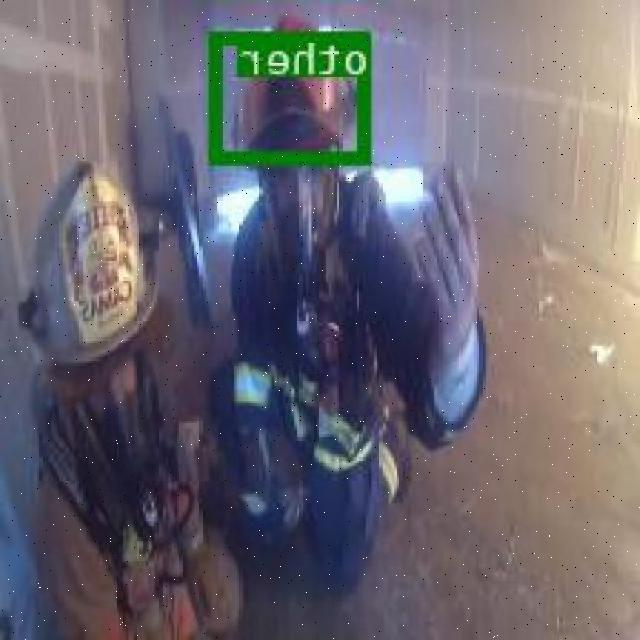other: (212, 29, 372, 162)
